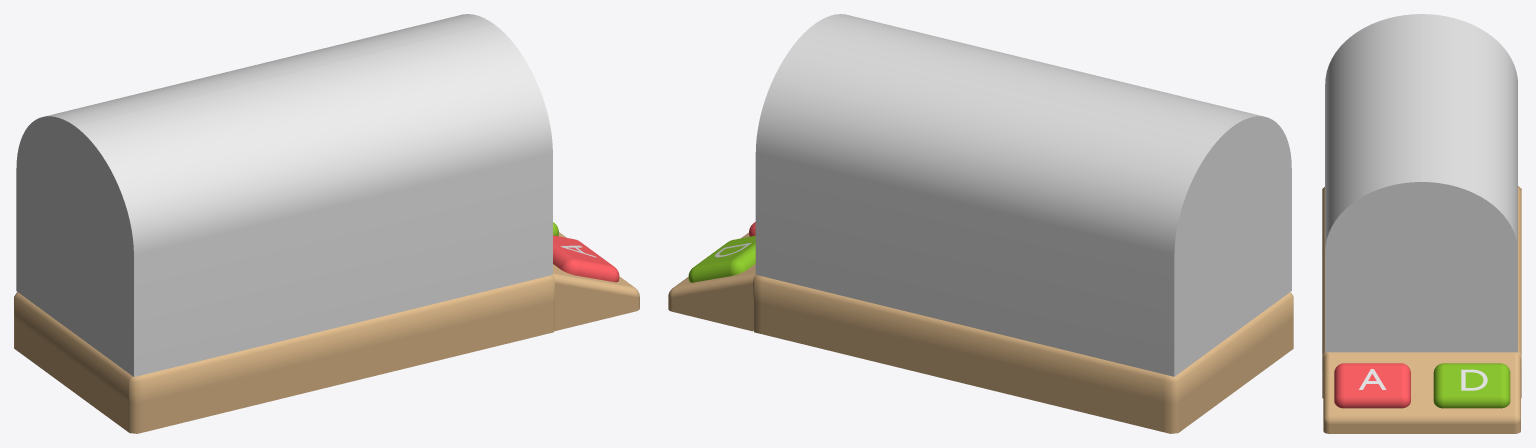
File: table.gltf
The picture shows the model from 3 angles, left to right: view 1: azimuth 30°, elevation 25°; view 2: azimuth 150°, elevation 25°; view 3: azimuth 270°, elevation 25°; orthographic projection. The views are drawn at different scales.
Parts seen in each view (by area): view 1: Glass, Table, Controls, Control A; view 2: Glass, Table, Controls, Control B; view 3: Glass, Controls, Control B, Control A, Table, Control B Text, Control A Text.
Part boxes in pixels (x1=…): Glass: x1=16, y1=14, x2=552, y2=376; Table: x1=14, y1=275, x2=554, y2=433; Controls: x1=553, y1=232, x2=639, y2=330; Control A: x1=553, y1=235, x2=619, y2=282; Glass: x1=755, y1=14, x2=1291, y2=376; Table: x1=753, y1=275, x2=1293, y2=433; Controls: x1=668, y1=232, x2=755, y2=331; Control B: x1=688, y1=235, x2=755, y2=282; Glass: x1=1325, y1=14, x2=1517, y2=352; Controls: x1=1323, y1=353, x2=1520, y2=433; Control B: x1=1433, y1=363, x2=1510, y2=408; Control A: x1=1334, y1=363, x2=1410, y2=408; Table: x1=1322, y1=186, x2=1521, y2=398; Control B Text: x1=1461, y1=369, x2=1487, y2=390; Control A Text: x1=1359, y1=369, x2=1386, y2=389.
Bounding box in the file's own units: 7.31 × 3.74 × 3.
